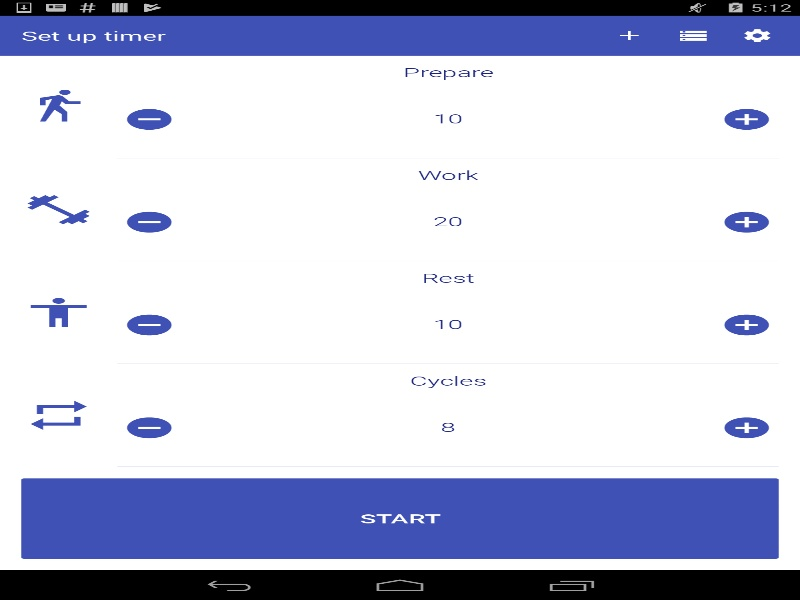Button: (16, 474, 784, 562), (117, 104, 181, 134), (714, 104, 778, 134), (117, 207, 181, 237), (714, 207, 778, 237), (117, 310, 181, 340), (714, 310, 778, 340), (117, 412, 181, 442), (714, 412, 778, 442)
Input: (202, 285, 693, 364), (202, 80, 693, 158), (202, 183, 693, 261), (202, 388, 693, 466)
